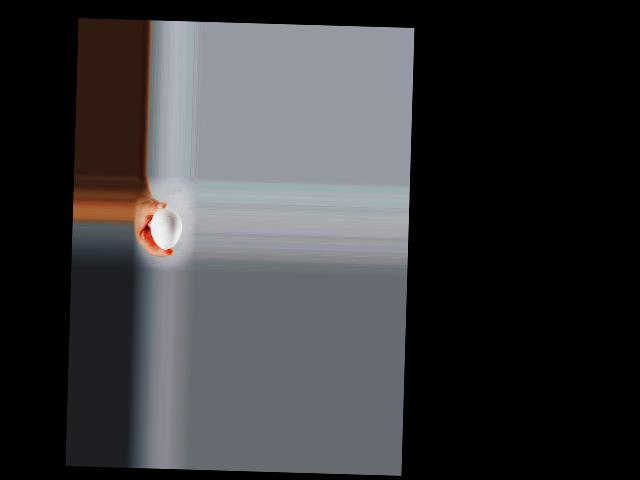egg: (149, 208, 182, 250)
